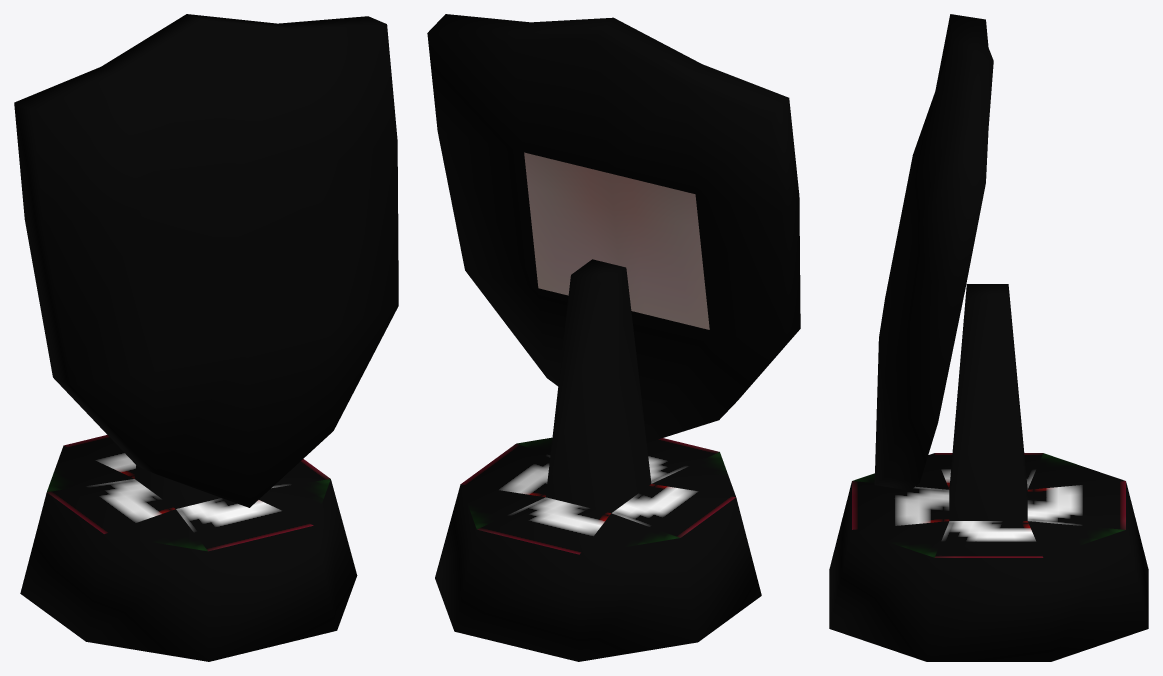
3 renders of one model, left to right at view 1: azimuth 30°, elevation 25°; view 2: azimuth 150°, elevation 25°; view 3: azimuth 270°, elevation 25°, orthographic. The views are drawn at different scales.
Parts seen in each view (by area): view 1: T1L1M006_5; view 2: T1L1M006_5; view 3: T1L1M006_5.
Boxes of the visible parts, <box> form: T1L1M006_5: <box>14,14,398,661</box>; T1L1M006_5: <box>427,14,800,661</box>; T1L1M006_5: <box>829,14,1148,661</box>.
Bounding box in the file's own units: 0.4346 × 0.6738 × 0.3584.
